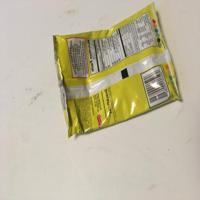plastic: (52, 1, 183, 136)
